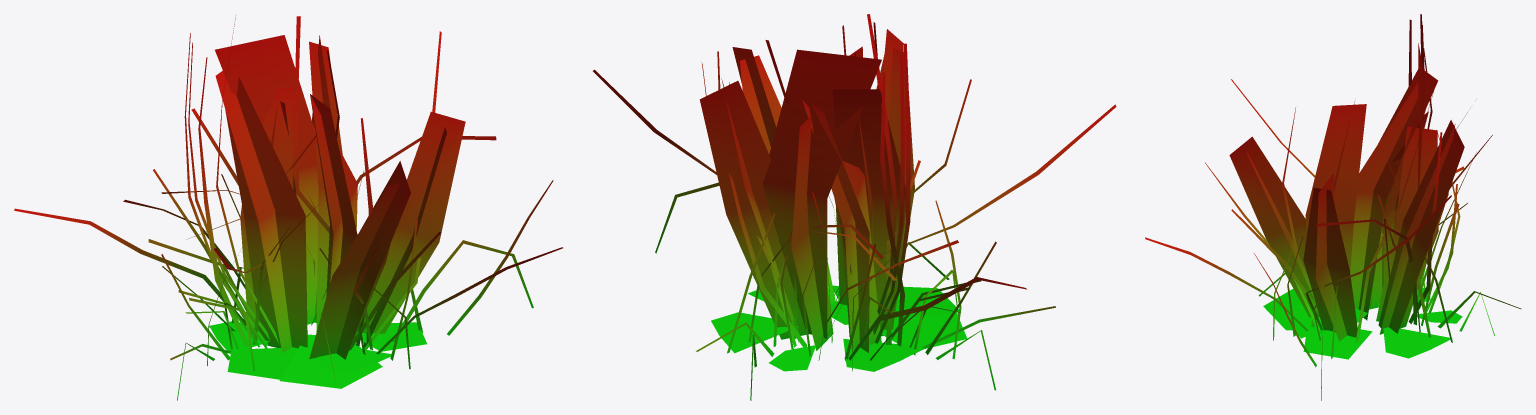
Rendered from Thatching Grass_LOD2_Var8_uddmcgbia.fbx.
The picture shows the model from 3 angles, left to right: view 1: azimuth 30°, elevation 25°; view 2: azimuth 150°, elevation 25°; view 3: azimuth 270°, elevation 25°; orthographic projection. The views are drawn at different scales.
Parts seen in each view (by area): view 1: _b5fc_Var8_LOD2; view 2: _b5fc_Var8_LOD2; view 3: _b5fc_Var8_LOD2.
Part boxes in pixels (left/top/right/bottom): _b5fc_Var8_LOD2: left=14, top=15, right=562, bottom=400; _b5fc_Var8_LOD2: left=593, top=14, right=1116, bottom=400; _b5fc_Var8_LOD2: left=1145, top=14, right=1521, bottom=400.
Bounding box in the file's own units: 25.26 × 19.3 × 21.93.
